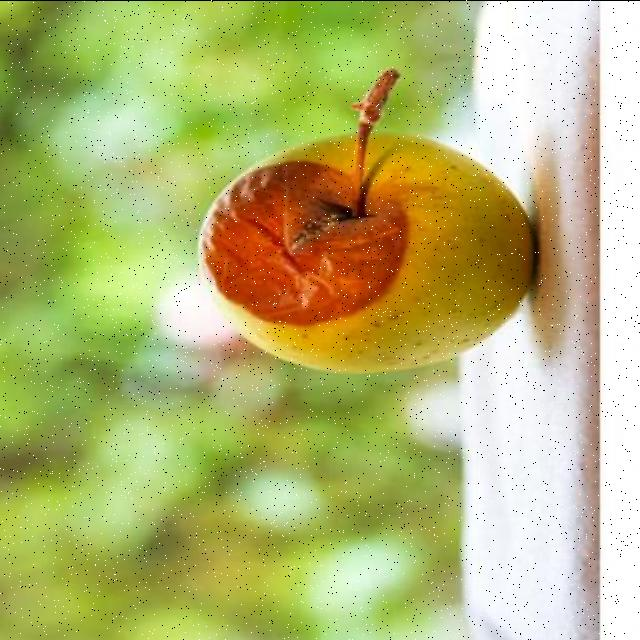ROT: (162, 82, 562, 384)
